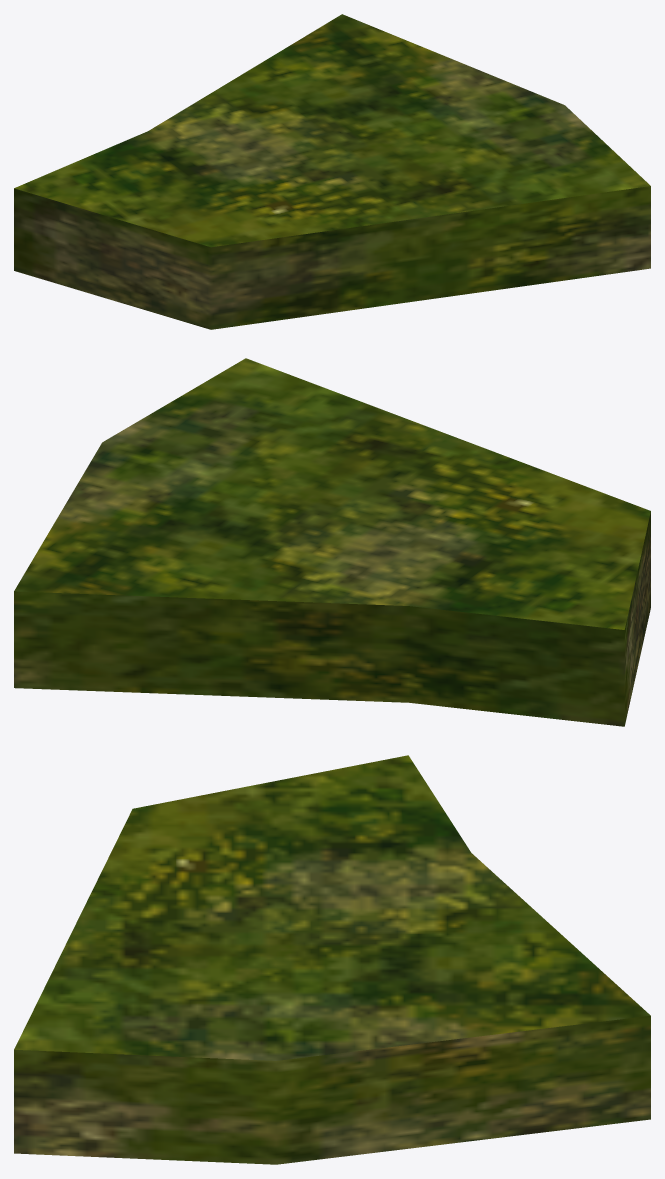
File: ANIMATEDINSTANCES_ROOF_FALL_01__AI.fbx
The picture shows the model from 3 angles, top to bottom: view 1: azimuth 30°, elevation 25°; view 2: azimuth 150°, elevation 25°; view 3: azimuth 270°, elevation 25°; orthographic projection. The views are drawn at different scales.
Visible parts, largest first — view 1: ANIMATEDINSTANCES_ROOF_FALL_01__AI; view 2: ANIMATEDINSTANCES_ROOF_FALL_01__AI; view 3: ANIMATEDINSTANCES_ROOF_FALL_01__AI.
Part boxes in pixels (<box>): ANIMATEDINSTANCES_ROOF_FALL_01__AI: <box>14,14,650,329</box>; ANIMATEDINSTANCES_ROOF_FALL_01__AI: <box>14,358,650,726</box>; ANIMATEDINSTANCES_ROOF_FALL_01__AI: <box>14,755,650,1164</box>.
Bounding box in the file's own units: 15798 × 2500 × 13910.
Materials: 1 (1 with a texture image).
